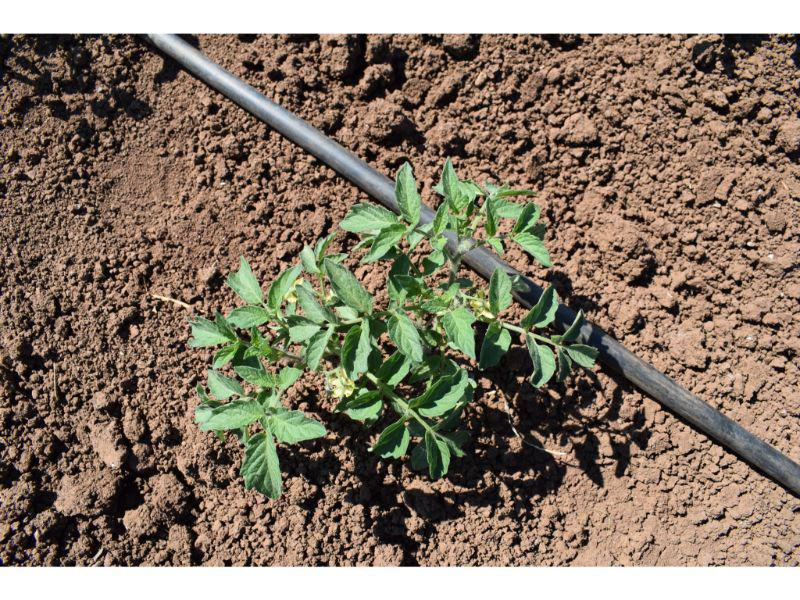tomato: (190, 153, 594, 500)
